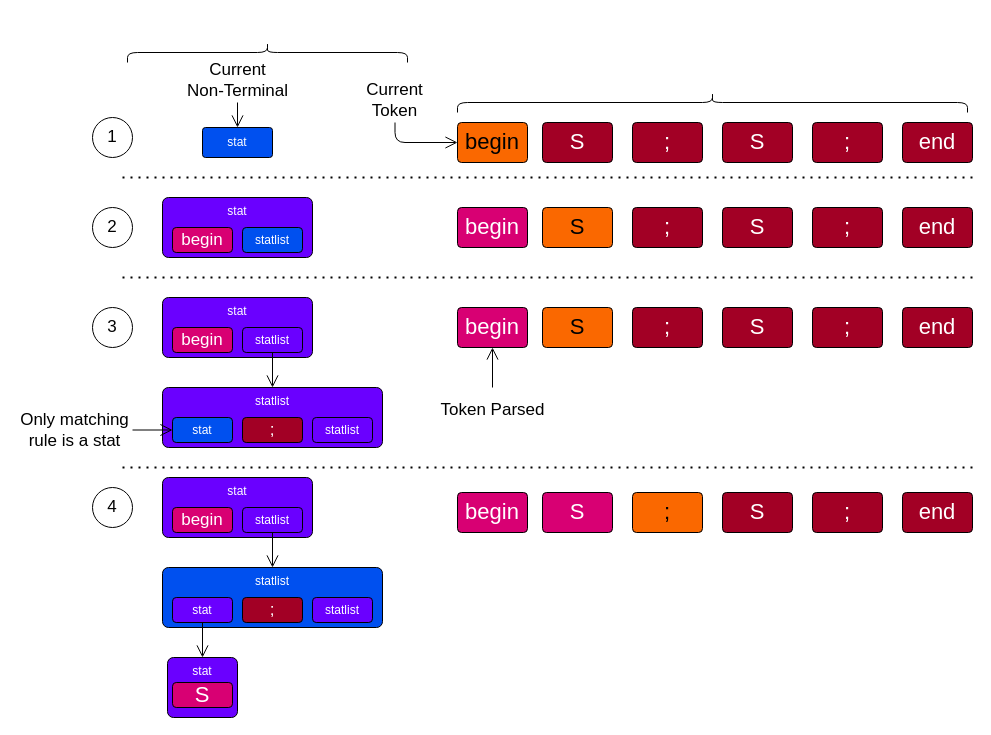
Some shapes in this 991 by 735 pixel diagram are drawn without their labels. The shapes that lost their labels are listed below. From the top down, each one's box as (x1, y1, x2, y2) in pixels, then its label:
(126, 42, 408, 62): Parse Tree
(456, 92, 968, 112): Tokens
